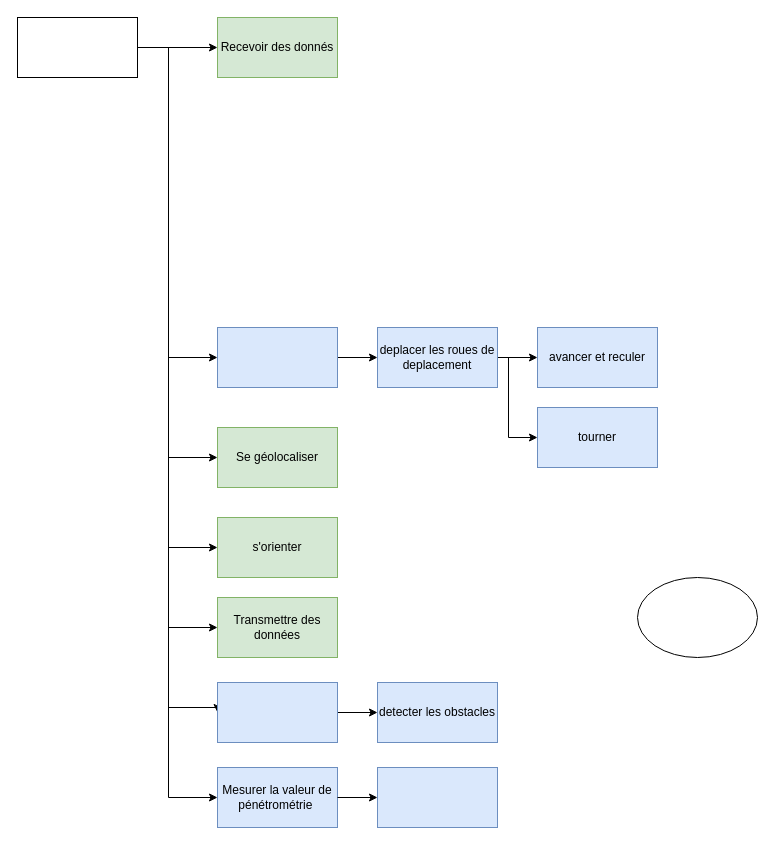
This 775x845 diagram has some shape labels left out. Each missing label, with the centre of its shape:
Acquerir la valeur de pénétrometrie: point (437, 797)
Deplacer le penetrometre: point (77, 47)
LiDAR: point (697, 617)
Se déplacer en suivant une trajectoire: point (277, 357)
Éviter les obstacles: point (277, 712)
